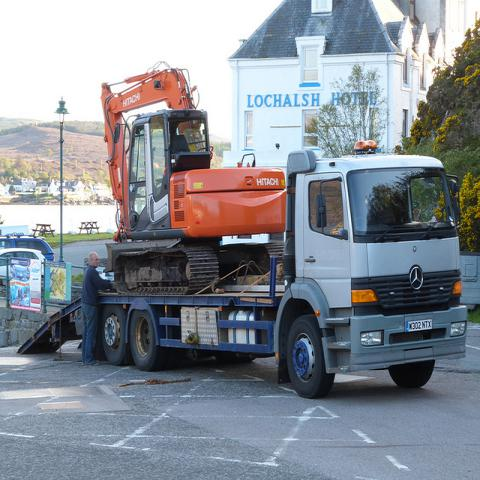car: (1, 239, 55, 261), (0, 247, 48, 262), (0, 256, 11, 279)
truck: (99, 147, 468, 400), (98, 66, 282, 294)
